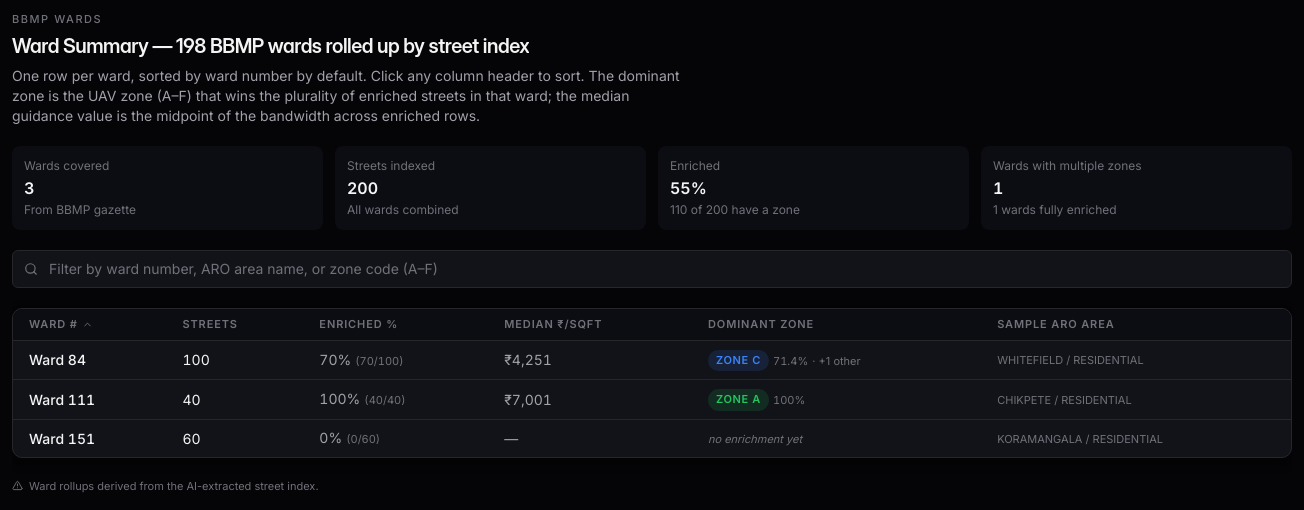
Test case: BbmpWardSummaryPanel › filters by ward number when the user types a digit
Type "84" into the search field with placeholder "Filter by ward number, ARO area name, or zone code (A–F)" at (652, 269), box left=12, top=250, right=1292, bottom=288
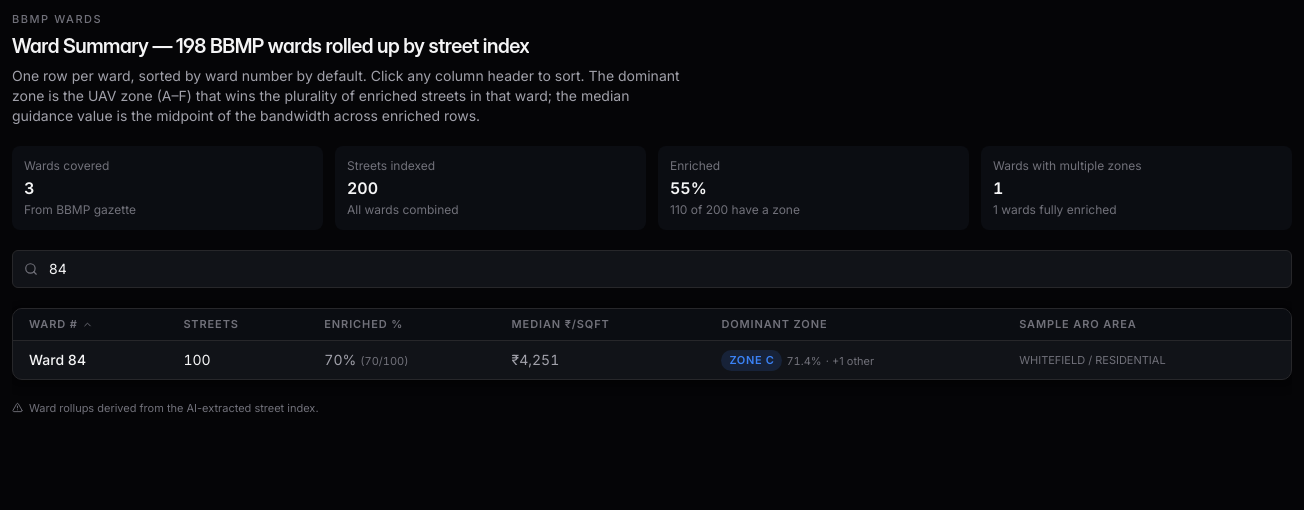
Check: the text "Ward 84" is shown, box left=13, top=340, right=167, bottom=379
Check: the text "Ward 151" is gone
